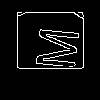M: (25, 25, 80, 71)
